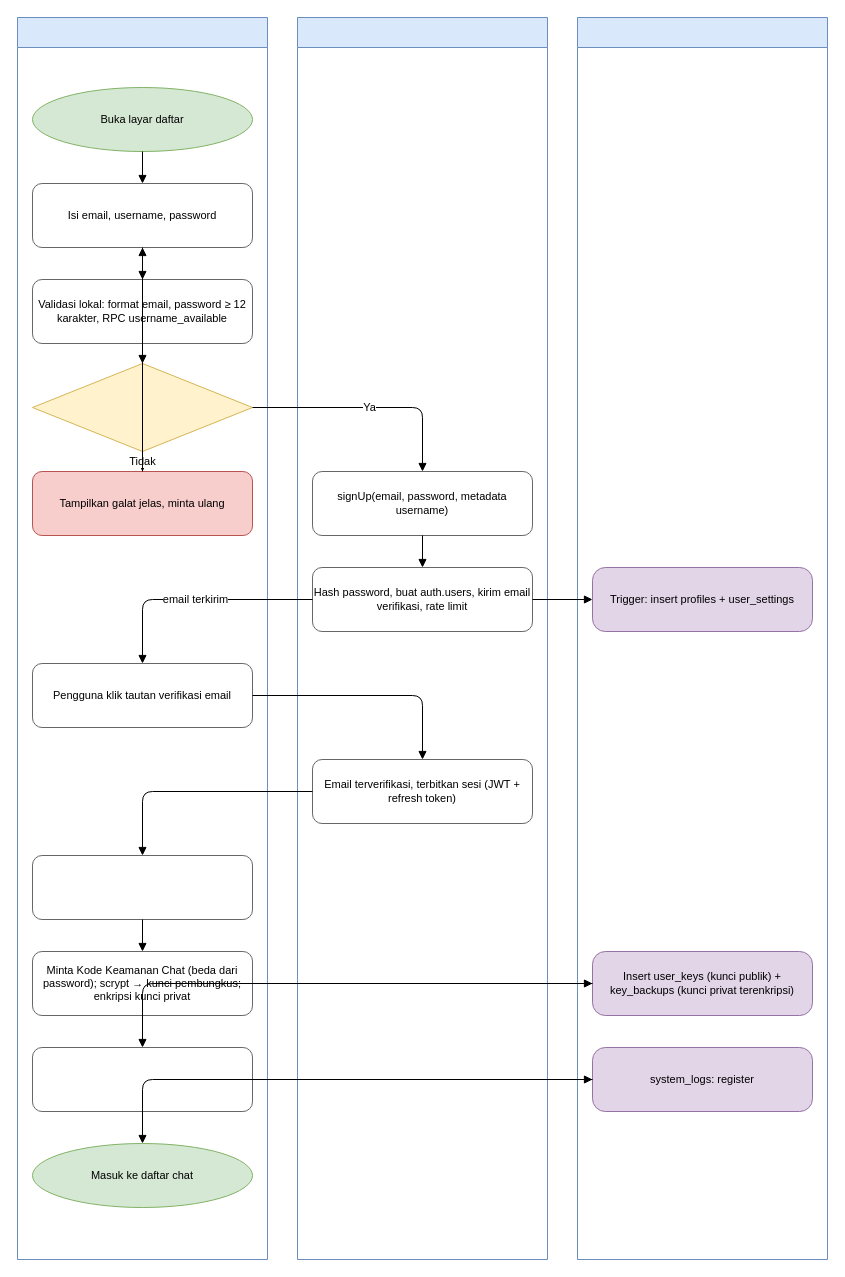
Image size: 845x1277. Some labels were removed from this diagram. Each missing label, with the box of its shape:
Buat pasangan kunci X25519 di perangkat: (32, 854, 252, 920)
Database (RLS, trigger): (576, 16, 828, 1260)
Pengguna / App (web & mobile): (16, 16, 268, 1260)
Simpan kunci privat lokal: SecureStore (mobile) / IndexedDB terbungkus (web): (32, 1046, 252, 1112)
Supabase Auth: (296, 16, 548, 1260)
Valid?: (32, 362, 252, 452)
